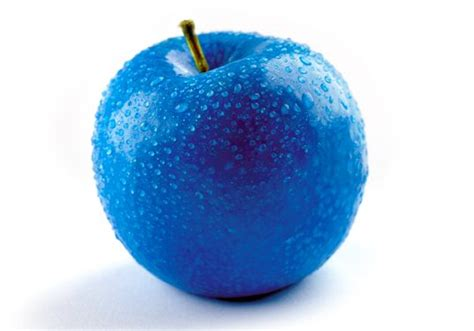apple: (86, 29, 377, 305)
